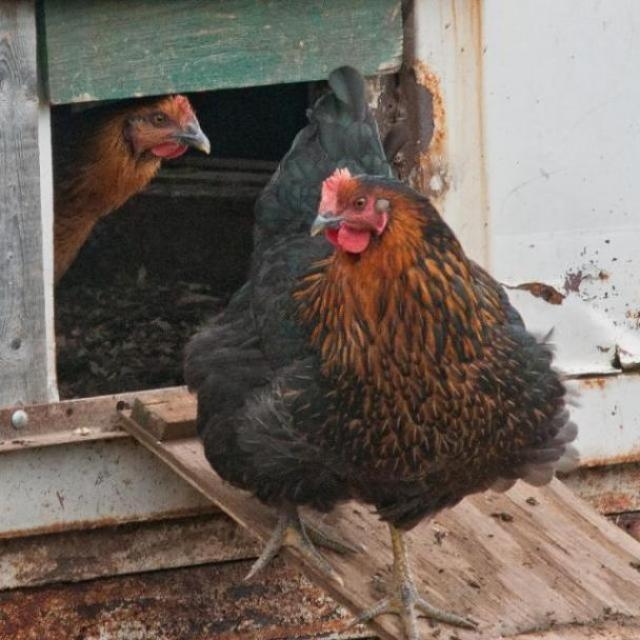Chicken: (190, 151, 569, 614), (44, 91, 212, 278)
